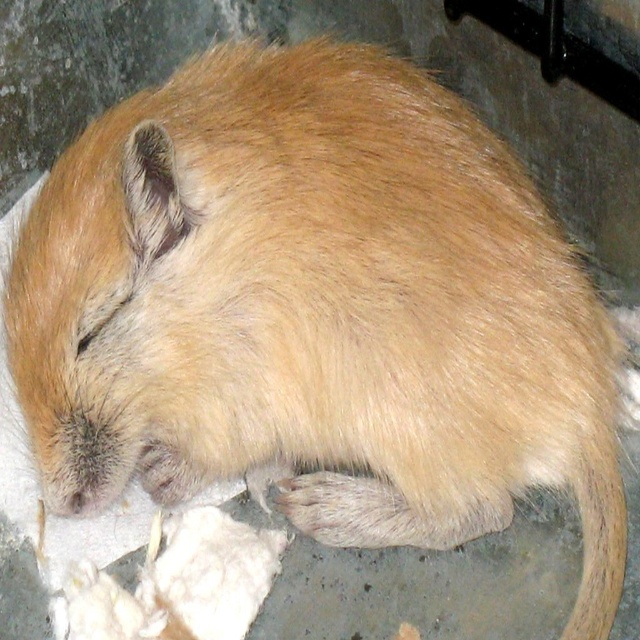Hamster: (1, 21, 640, 640)
